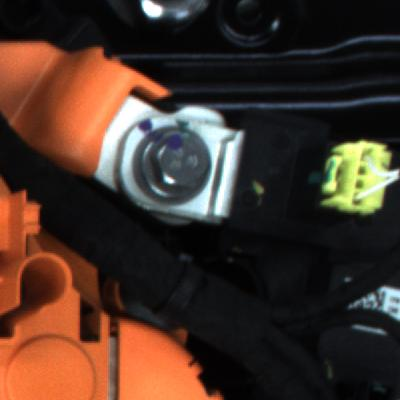nut_b: (128, 118, 219, 207)
